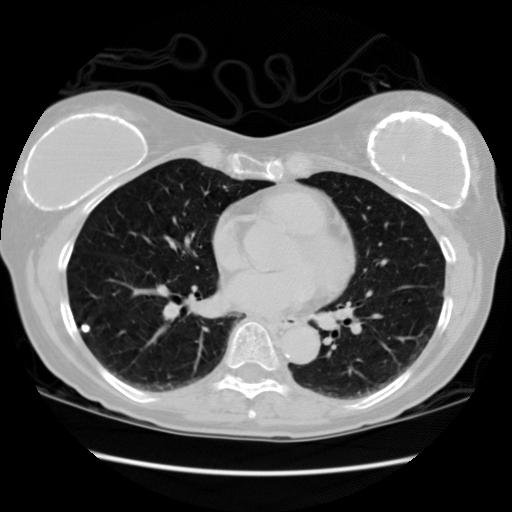nodule: (78, 321, 93, 336)
